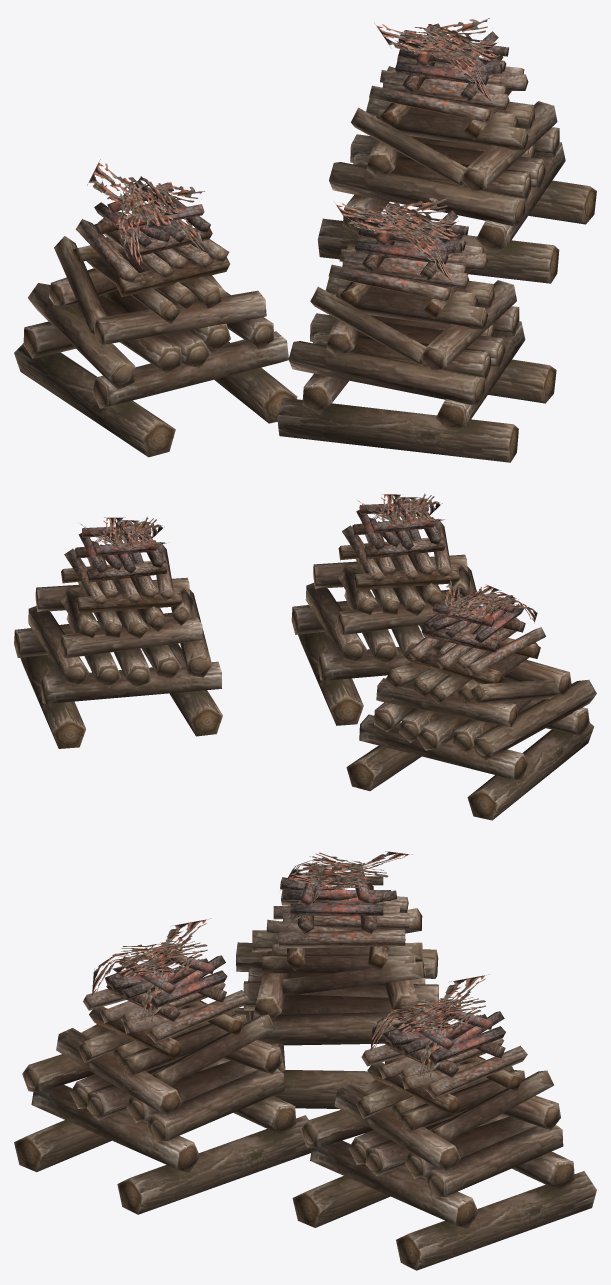
The model's file is yanshi1_zhibei_1.fbx.
3 views of the same model, one above another, from view 1: azimuth 30°, elevation 25°; view 2: azimuth 150°, elevation 25°; view 3: azimuth 270°, elevation 25° (orthographic). The views are drawn at different scales.
Parts seen in each view (by area): view 1: yanshi1_zhibei_1; view 2: yanshi1_zhibei_1; view 3: yanshi1_zhibei_1.
Part boxes in pixels (<box>): yanshi1_zhibei_1: <box>14,18,596,462</box>; yanshi1_zhibei_1: <box>14,493,596,820</box>; yanshi1_zhibei_1: <box>14,851,596,1270</box>.
Size of the model in its own units: 779 by 310 by 684.
